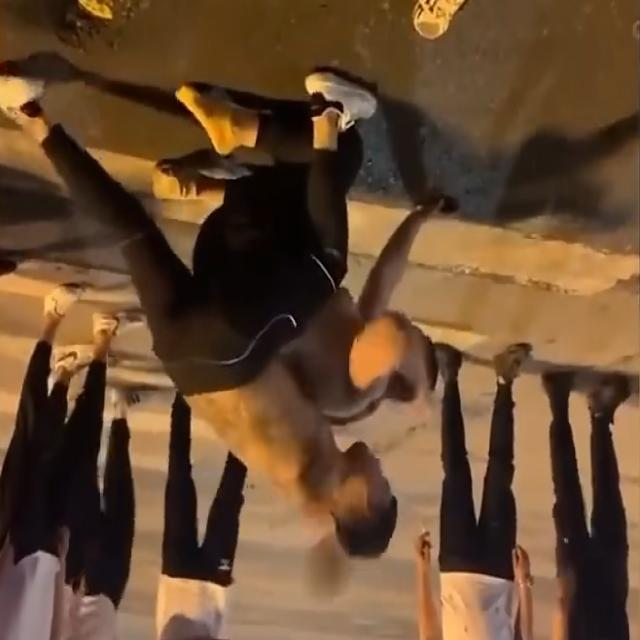fight: (146, 69, 485, 558)
